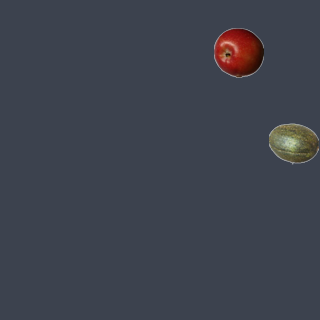Apple Braeburn: (213, 27, 263, 77)
Melon Piel de Sapo: (268, 118, 318, 168)
